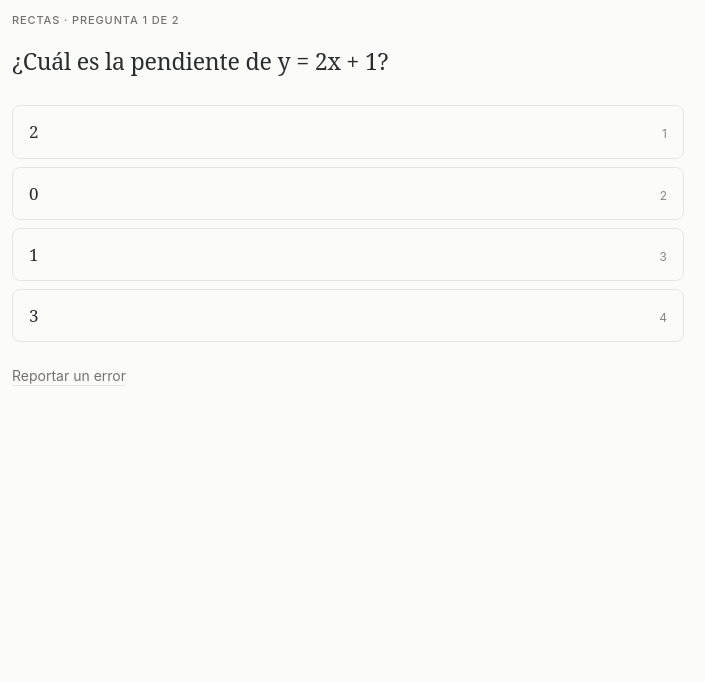
Test case: Práctica v2 › acierto seguro dice Correcto con la explicación colapsada; dudando, abierta
expect the heading "¿Cuál es la pendiente de y = 2x + 1?" is shown: met, box [12,45,388,77]
Step 1. Click the button "2 1" → (34, 132), box [12,106,684,159]
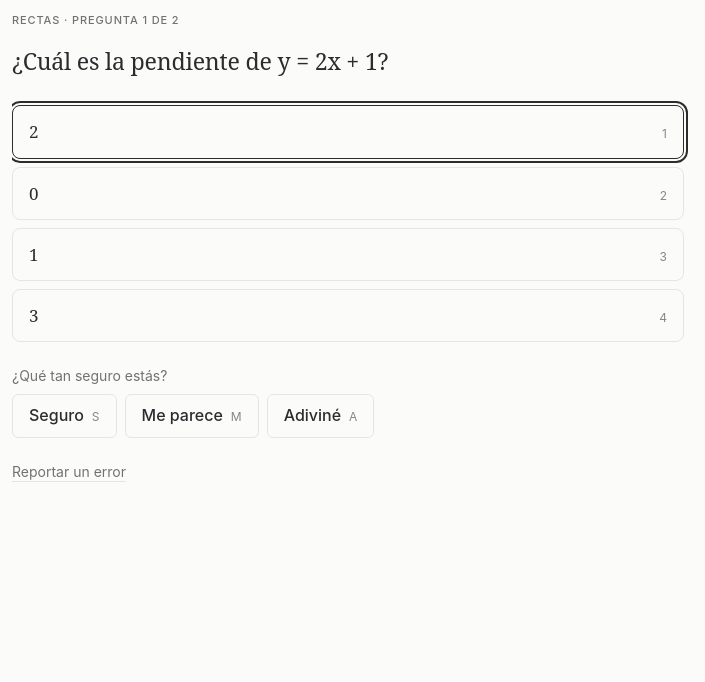
Step 2. Click the button "Seguro S" → (64, 416), box [12,394,116,438]
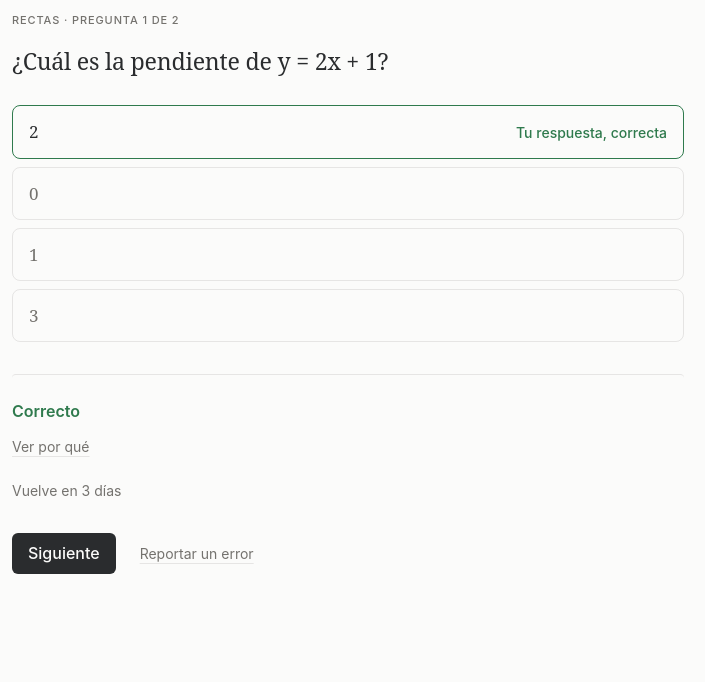
expect the text "En y = mx + b" is not shown: met
expect the text "Correcto" is shown: met, box [12,401,80,421]
Step 3. Click the button "Siguiente" → (64, 554), box [12,533,116,574]
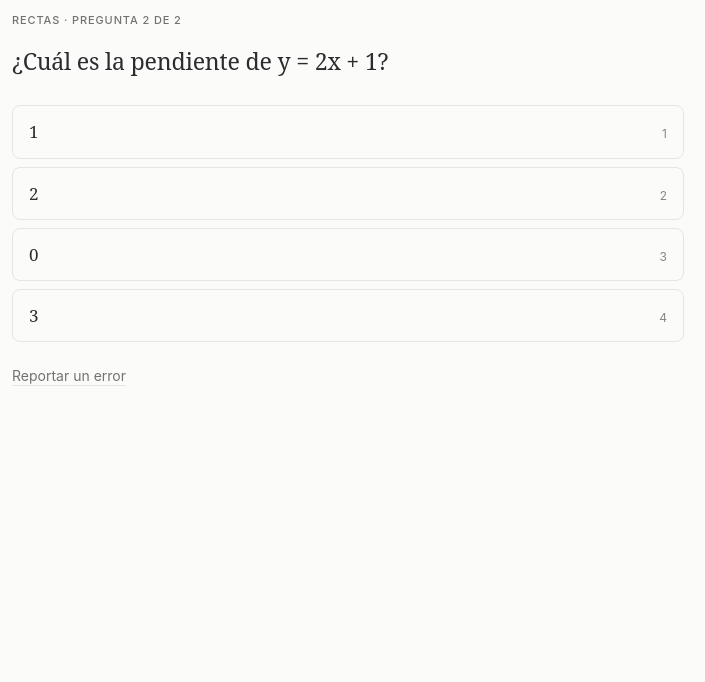
Step 4. Click the button "2 2" → (34, 193), box [12,167,684,220]
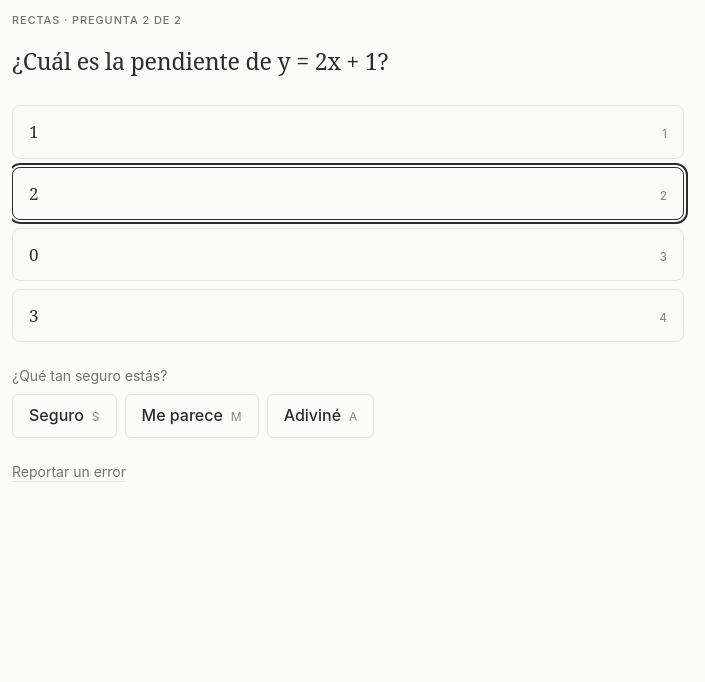
Step 5. Click the button "Adiviné A" → (321, 416), box [267,394,374,438]
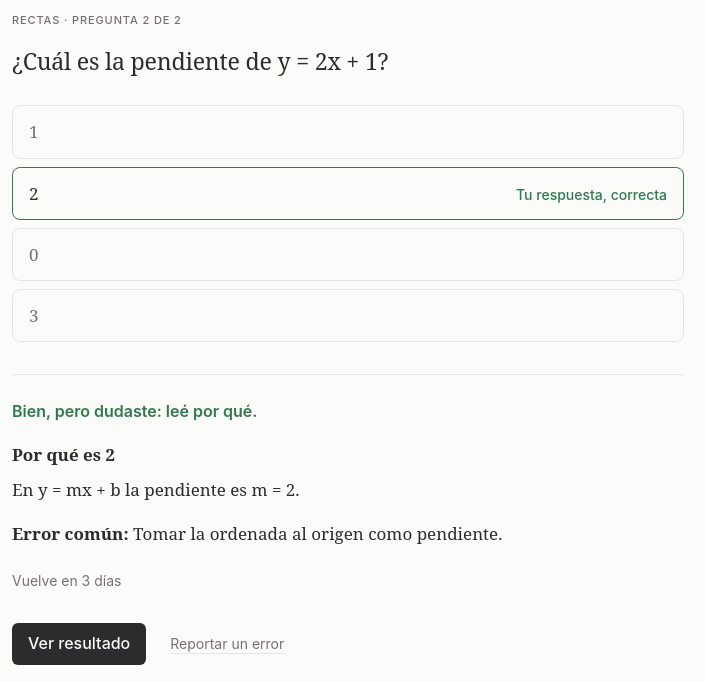
expect the text "Bien, pero dudaste: leé por qué." is shown: met, box [12,401,257,421]
expect the text "En y = mx + b la pendiente es m = 2." is shown: met, box [12,478,300,501]
